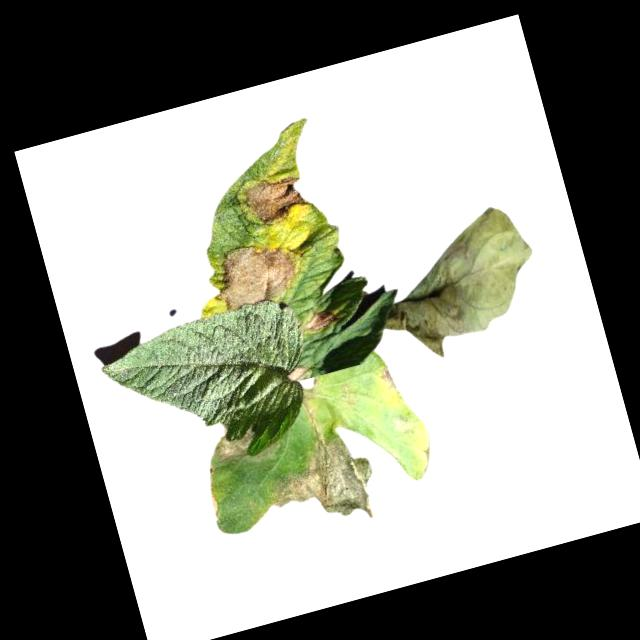Late_blight: (361, 198, 555, 372), (257, 421, 384, 542), (202, 231, 306, 316), (238, 167, 315, 232), (213, 420, 260, 468), (373, 361, 404, 403), (299, 305, 339, 335), (330, 380, 359, 411), (204, 488, 226, 522), (284, 361, 313, 382)
